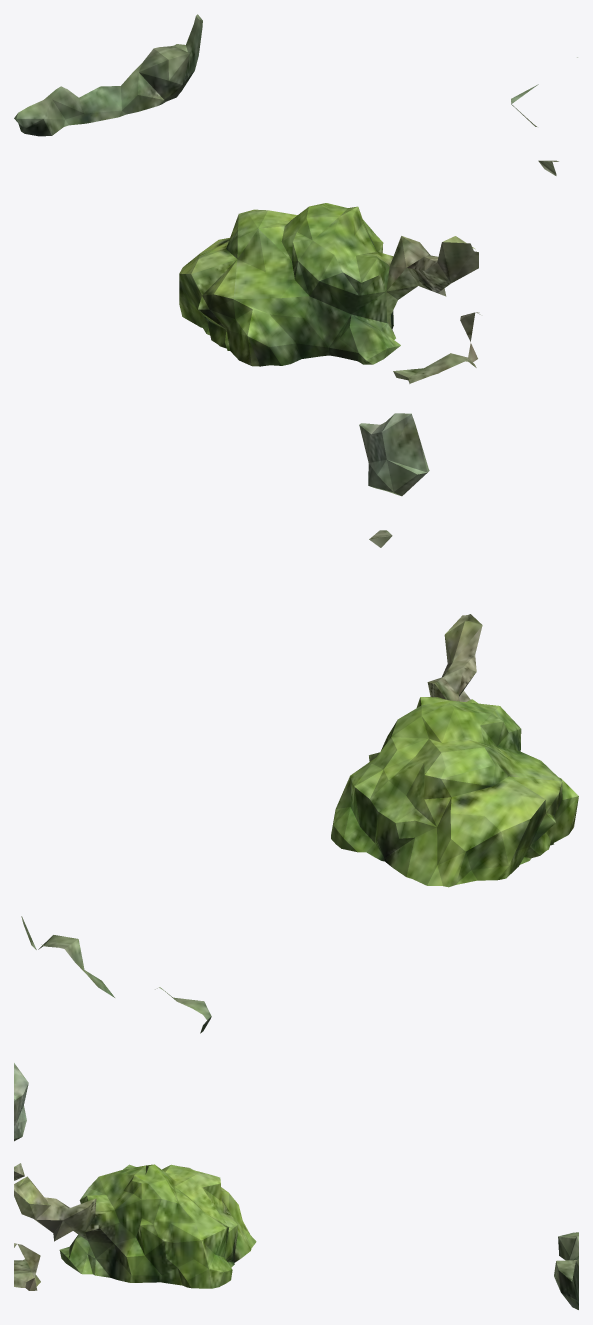
3 renders of one model, top to bottom at view 1: azimuth 30°, elevation 25°; view 2: azimuth 150°, elevation 25°; view 3: azimuth 270°, elevation 25°, orthographic. The views are drawn at different scales.
Size of the model in its own units: 12.09 by 12.45 by 26.11.
1 material, 1 textured.
